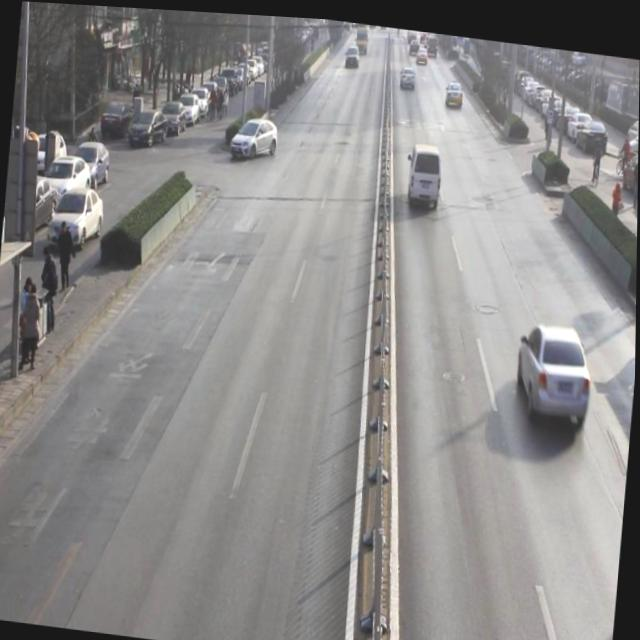car: (512, 311, 598, 429), (228, 106, 281, 160), (443, 72, 467, 108), (397, 61, 419, 89), (342, 40, 361, 66)
truck: (404, 135, 446, 209)
